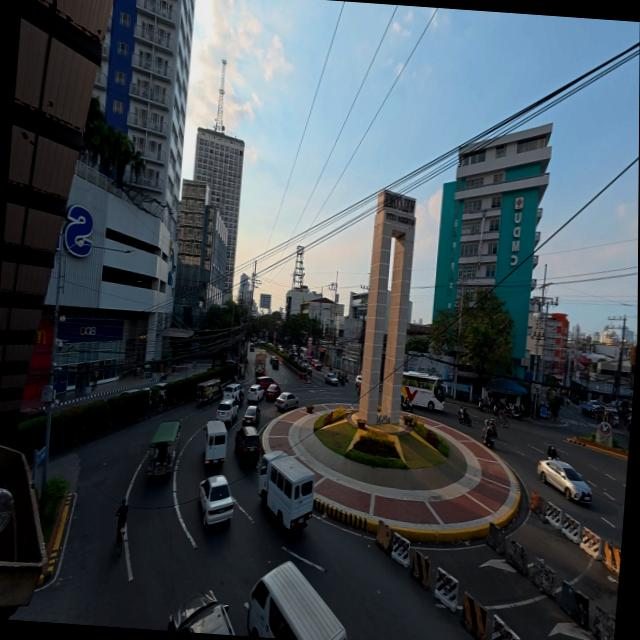Jeepneys: (145, 418, 184, 479), (195, 376, 222, 402)
bus: (393, 366, 451, 413)
car: (533, 454, 594, 504), (193, 472, 234, 528), (234, 424, 264, 465), (274, 389, 299, 412), (219, 379, 242, 402), (240, 405, 259, 426), (580, 401, 603, 418), (244, 384, 262, 402), (263, 383, 281, 401), (323, 369, 339, 383), (268, 356, 280, 368)
vans: (245, 551, 355, 640), (200, 418, 229, 468)
